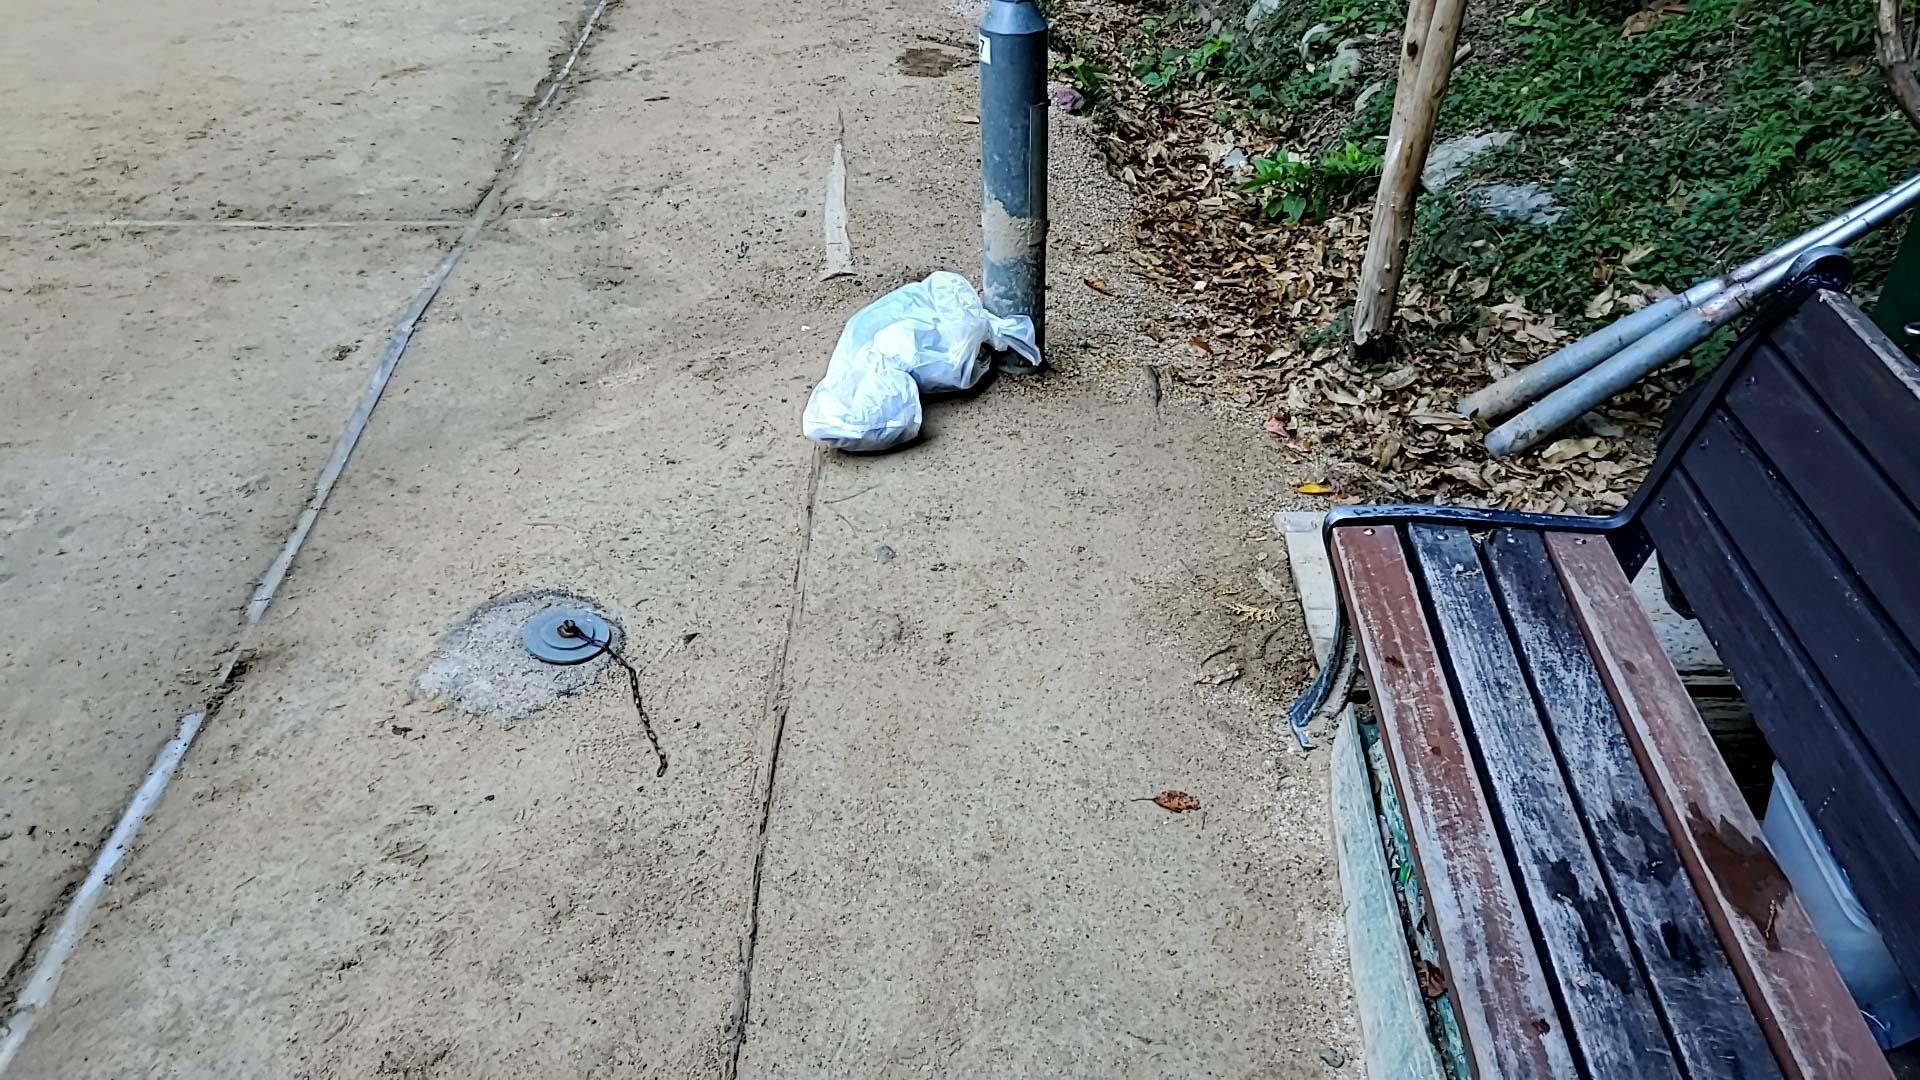white_bag: (822, 265, 1054, 413), (796, 344, 926, 456)
